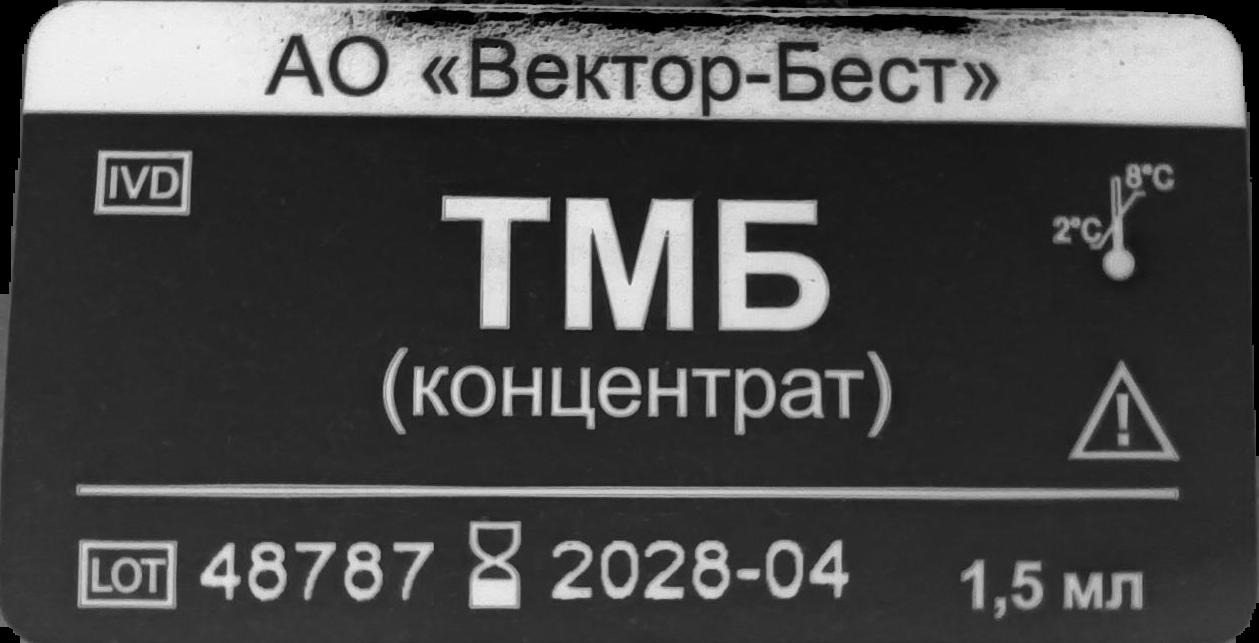something: (1049, 160, 1175, 287), (1064, 354, 1188, 474), (71, 530, 182, 612), (91, 143, 198, 218), (469, 518, 525, 613)
text: (379, 188, 895, 447), (246, 23, 1018, 127), (544, 533, 855, 613), (196, 533, 442, 618), (959, 554, 1162, 626)
